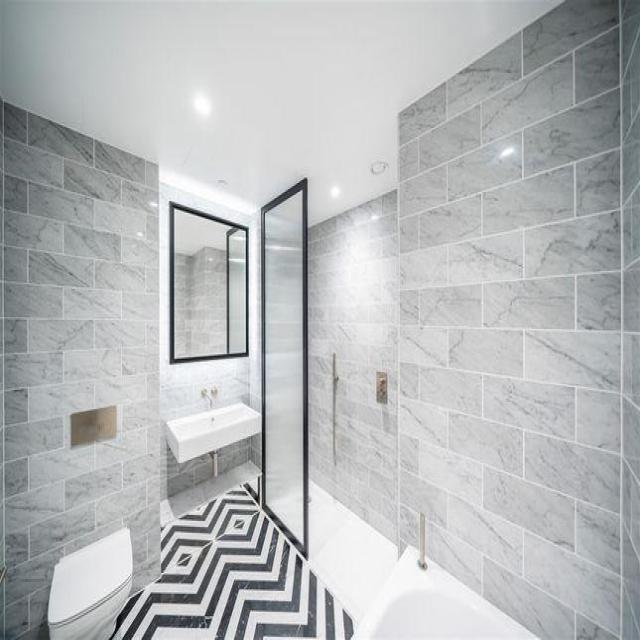Wall: (397, 2, 640, 637), (0, 1, 560, 224), (0, 104, 159, 511), (113, 461, 355, 638), (0, 395, 160, 638), (160, 185, 261, 496), (309, 191, 396, 539), (160, 185, 250, 226), (219, 436, 261, 473)
